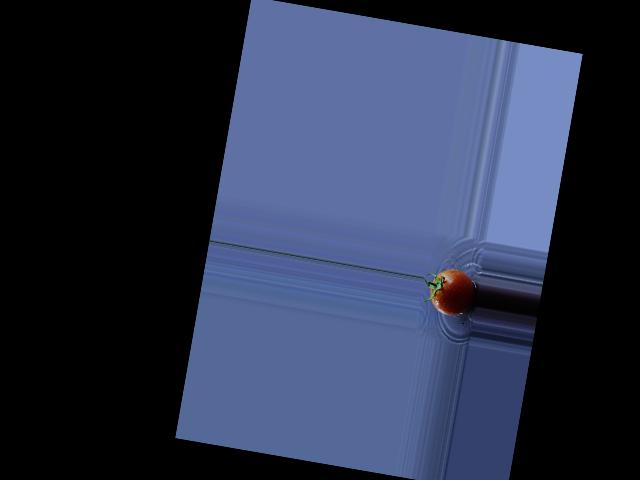tomato: (427, 266, 478, 318)
